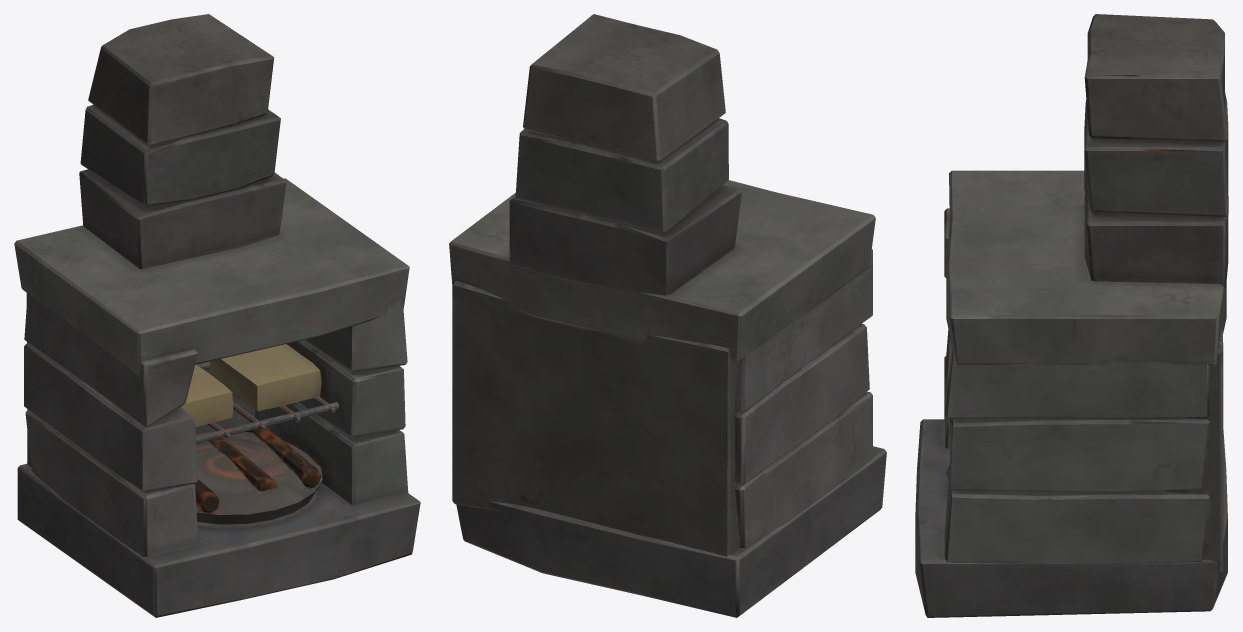
Rendered from hearth_oven.glb.
3 renders of one model, left to right at view 1: azimuth 30°, elevation 25°; view 2: azimuth 150°, elevation 25°; view 3: azimuth 270°, elevation 25°, orthographic. The views are drawn at different scales.
Visible parts, largest first — view 1: hearth_oven; view 2: hearth_oven; view 3: hearth_oven.
Boxes of the visible parts, x1,y1,x2,y2 form: hearth_oven: [14, 14, 420, 617]; hearth_oven: [449, 14, 886, 617]; hearth_oven: [915, 14, 1228, 617].
Bounding box in the file's own units: 0.94 × 1.53 × 0.8496.
Materials: 1 (1 with a texture image).
